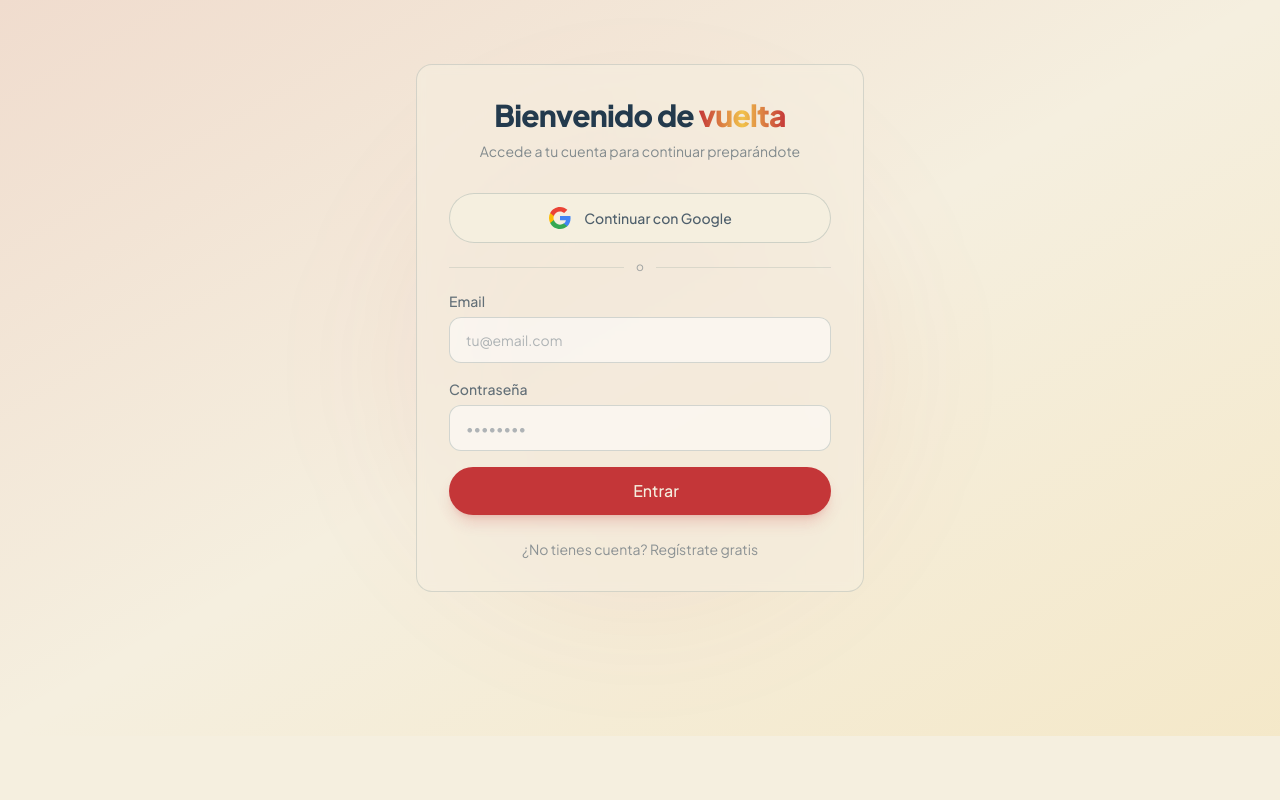
Login component › shows validation error when password is empty
Type "user@example.com" into the field with placeholder "tu@email.com" at (640, 340), box [449,317,831,363]
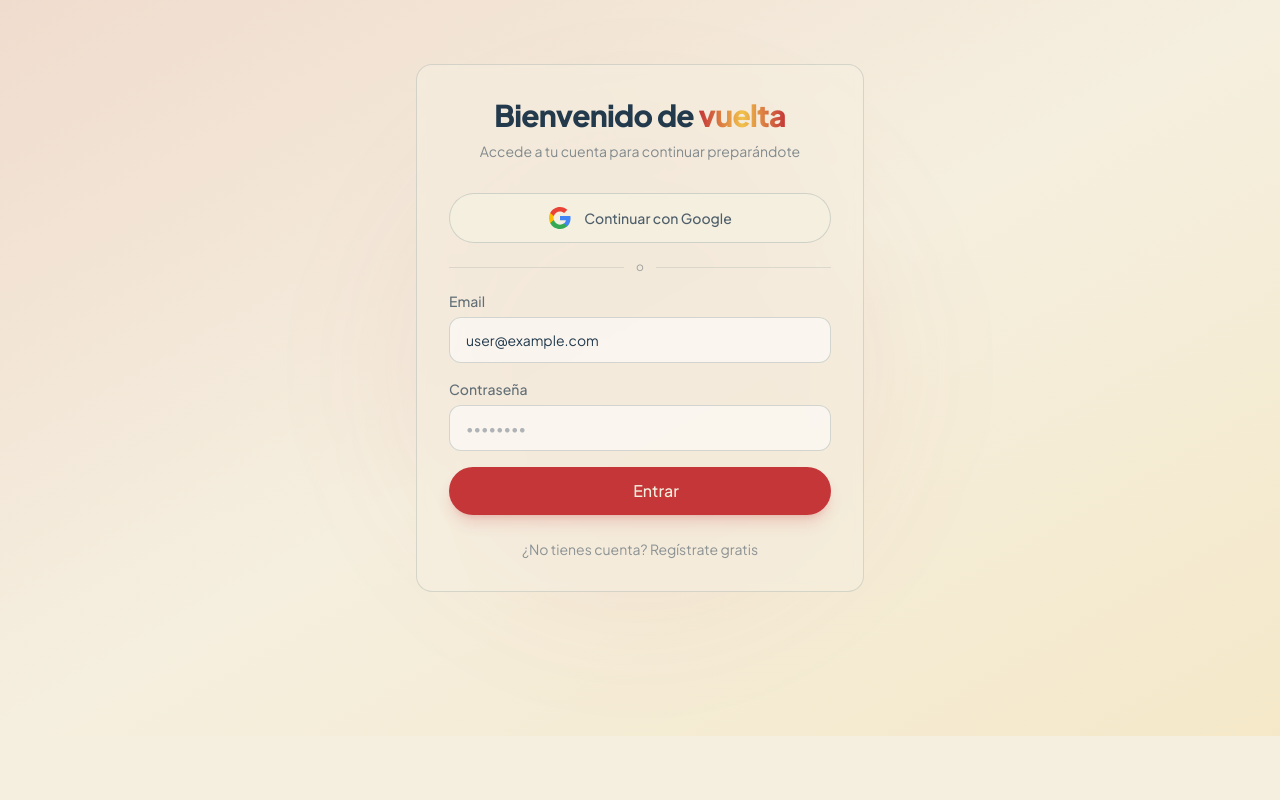
Click the button "Entrar" at (640, 491), box [449,467,831,515]
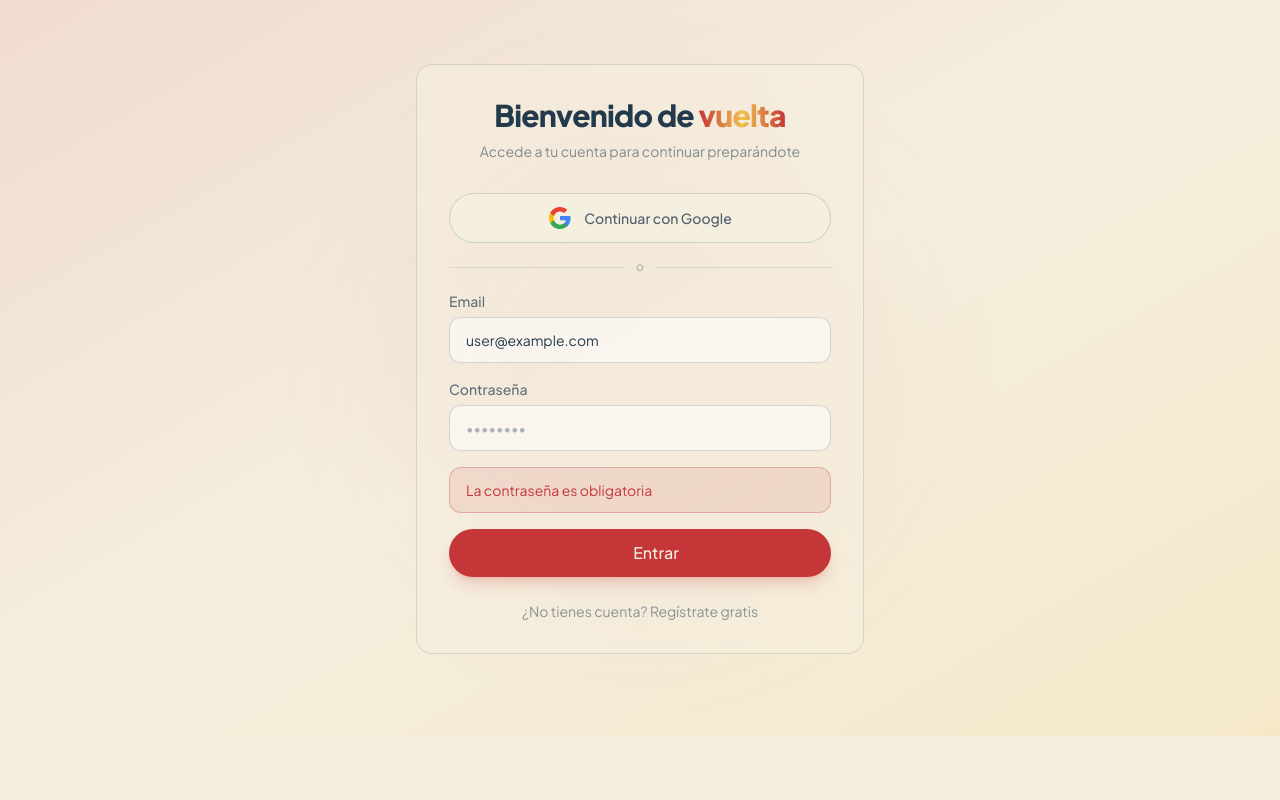
Result: the text "La contraseña es obligatoria" is shown at [449,467,831,513]
